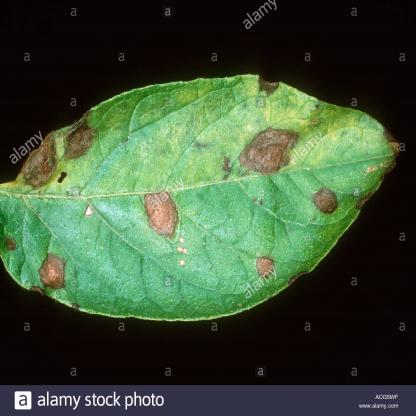potato leaf early blight: (0, 74, 398, 316)
